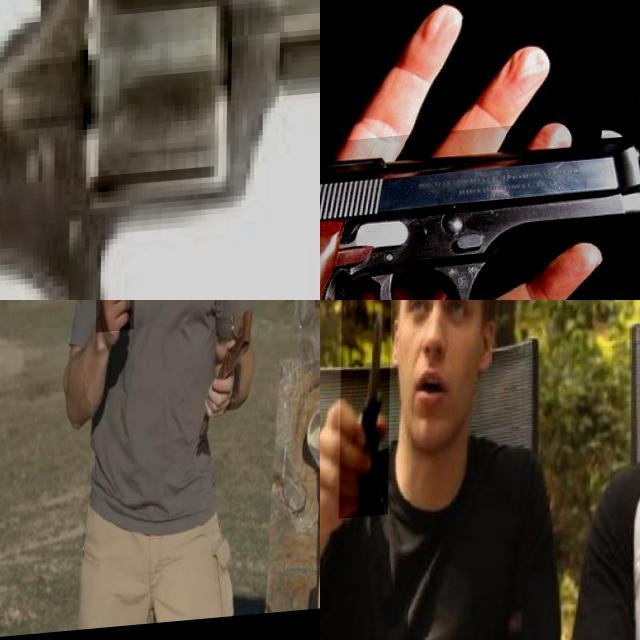-: (339, 300, 391, 520), (96, 300, 137, 399)
gun-knife-thesis - v11 Yolov5 augmented: (0, 0, 320, 300), (320, 124, 640, 300)
